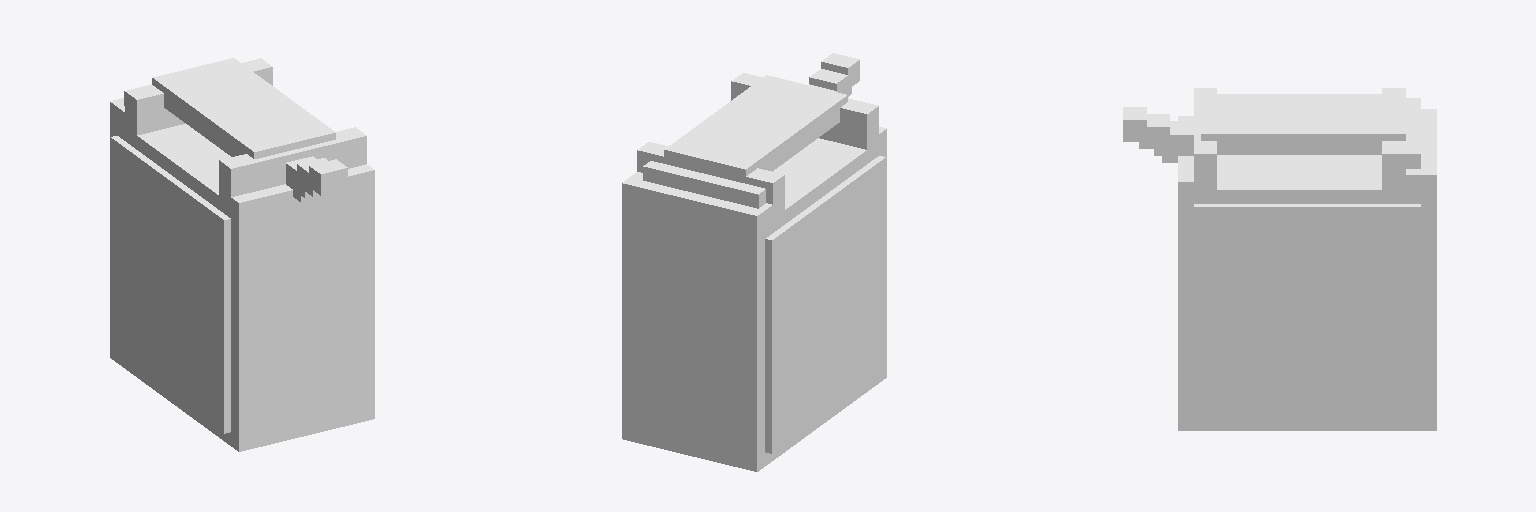
File: Jerrycan.obj
3 views of the same model, side by side, from view 1: azimuth 30°, elevation 25°; view 2: azimuth 150°, elevation 25°; view 3: azimuth 270°, elevation 25° (orthographic).
Visible parts, largest first — view 1: object 1; view 2: object 1; view 3: object 1.
Boxes of the visible parts, box(x1,y1,x2,y2) form: object 1: box(110, 58, 374, 451); object 1: box(622, 53, 886, 471); object 1: box(1123, 88, 1436, 430).
Size of the model in its own units: 2.2 by 4 by 4.